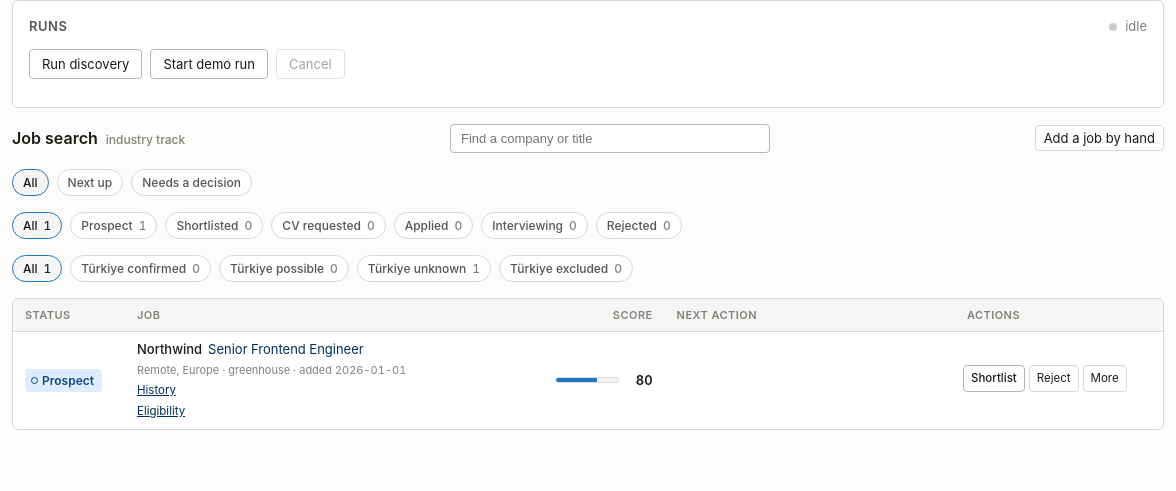
it: cancelling the pills closes the picker without posting
Click the button "Reject" at (1054, 378), box left=1029, top=365, right=1079, bottom=392
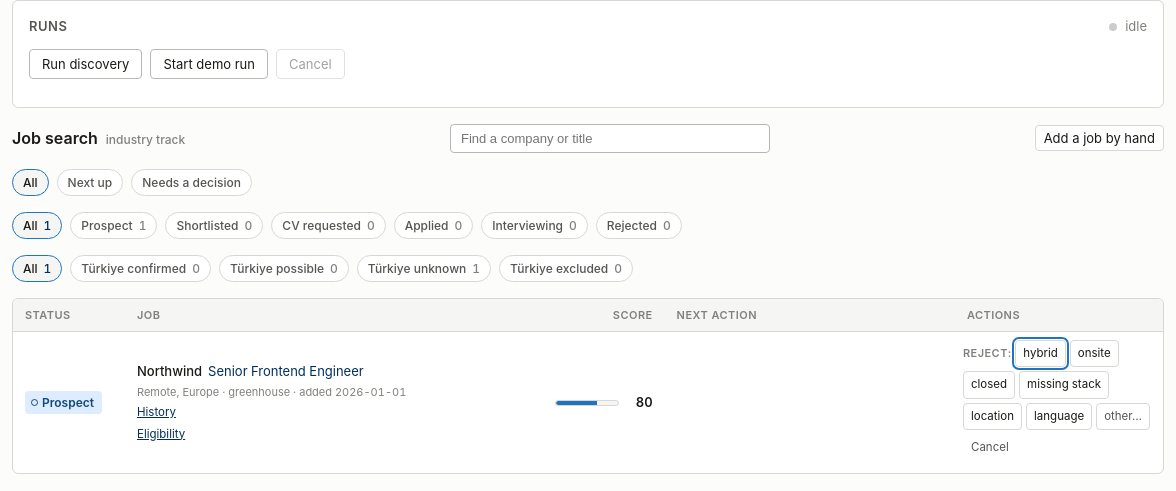
Click the button "Cancel" below "Next action" at (990, 447), box left=963, top=434, right=1017, bottom=461
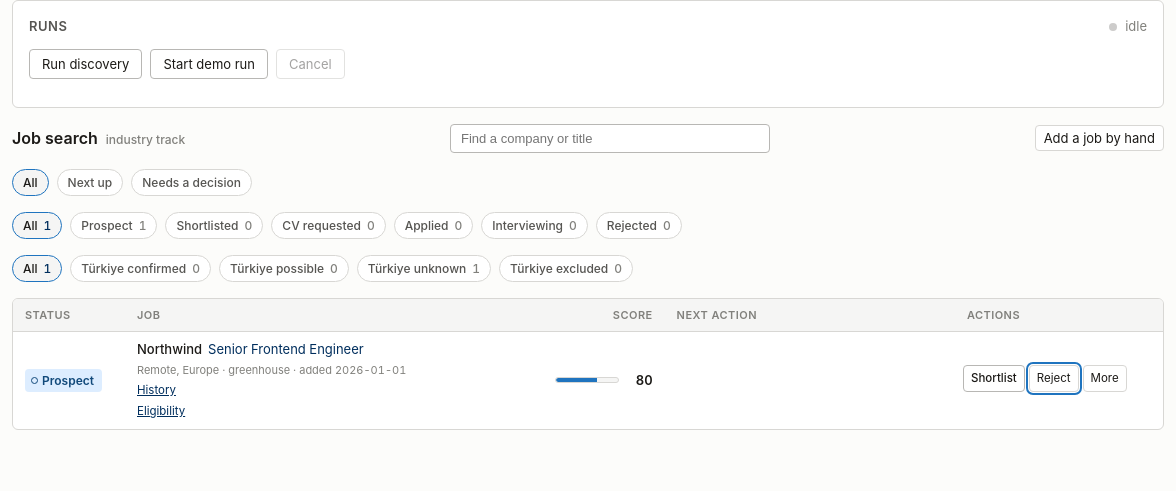
Result: the button "hybrid" is gone
Result: the button "Shortlist" is shown at left=963, top=365, right=1025, bottom=392
